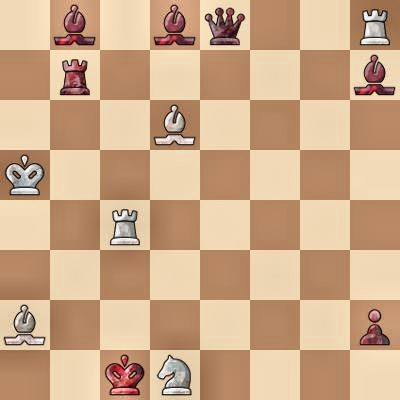black-bishop: (50, 0, 100, 50), (150, 0, 200, 50), (350, 50, 400, 100)
black-king: (100, 350, 150, 400)
black-pawn: (350, 300, 400, 350)
black-queen: (200, 0, 250, 50)
black-rook: (50, 50, 100, 100)
white-bishop: (150, 100, 200, 150), (0, 300, 50, 350)
white-king: (0, 150, 50, 200)
white-knight: (150, 350, 200, 400)
white-rook: (350, 0, 400, 50), (100, 200, 150, 250)
